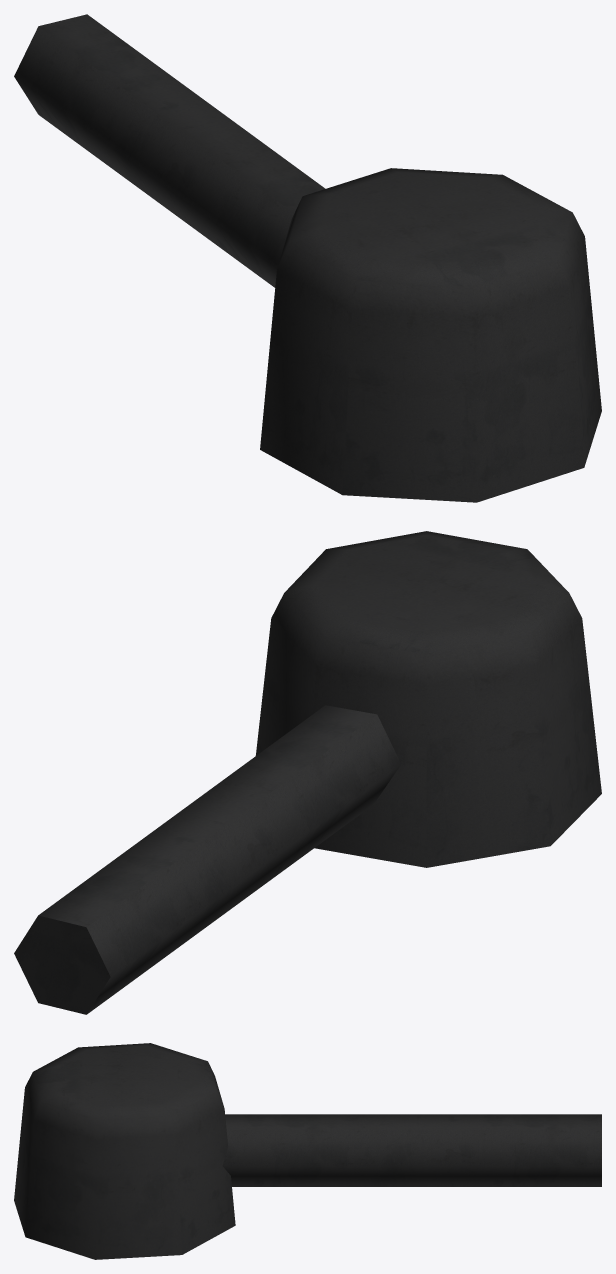
The model's file is Light_Mount_1.FBX.
3 renders of one model, top to bottom at view 1: azimuth 30°, elevation 25°; view 2: azimuth 150°, elevation 25°; view 3: azimuth 270°, elevation 25°, orthographic. The views are drawn at different scales.
Visible parts, largest first — view 1: Light_Mount_1; view 2: Light_Mount_1; view 3: Light_Mount_1.
Part boxes in pixels (<box>): Light_Mount_1: <box>14,14,601,502</box>; Light_Mount_1: <box>14,531,601,1014</box>; Light_Mount_1: <box>14,1043,601,1259</box>.
Bounding box in the file's own units: 0.0909 × 0.062 × 0.2413.
